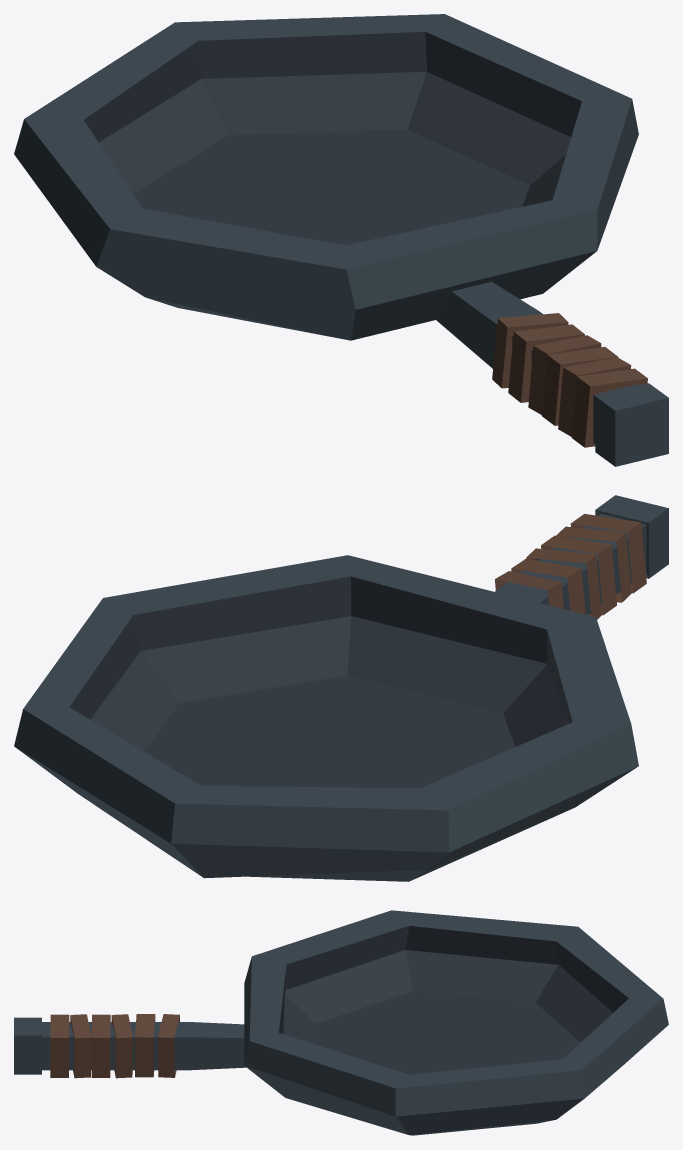
File: Pan.fbx
3 views of the same model, one above another, from view 1: azimuth 30°, elevation 25°; view 2: azimuth 150°, elevation 25°; view 3: azimuth 270°, elevation 25° (orthographic). The views are drawn at different scales.
Parts seen in each view (by area): view 1: Pan; view 2: Pan; view 3: Pan.
Part boxes in pixels (x1,y1,x2,y2): Pan: (14, 14, 668, 466); Pan: (14, 495, 668, 881); Pan: (14, 910, 668, 1135).
Bounding box in the file's own units: 54.94 × 10.67 × 82.59.
